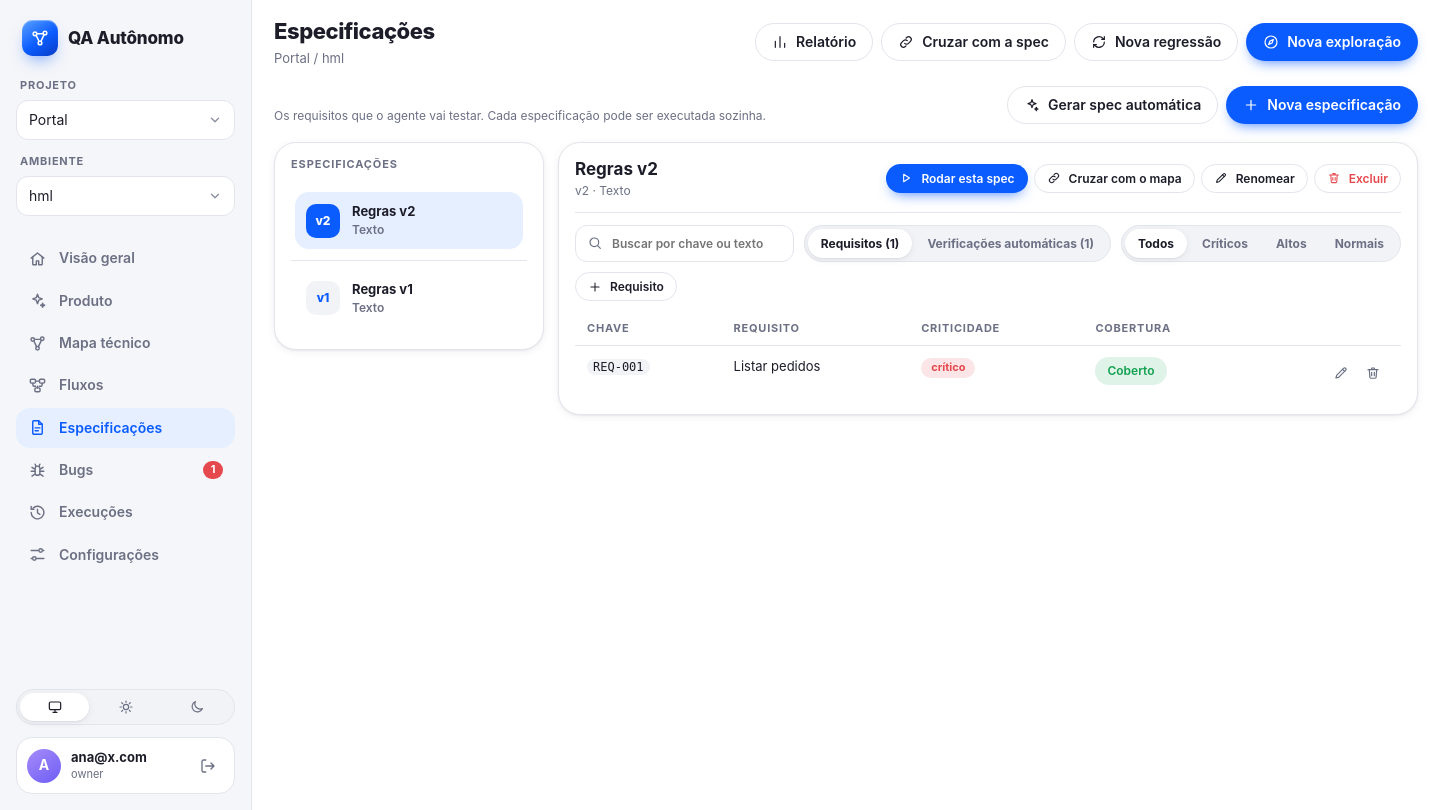
Scenario: especificações › separa requisitos de negócio e verificações automáticas
Expected: the text "Listar pedidos" is shown, left=722, top=346, right=909, bottom=400
Expected: the text "A tela /orders responde sem erro" is not shown
Click the 1st radio button labelled "Verificações automáticas (1)". click: point(1011, 243)
box: left=927, top=236, right=1094, bottom=250
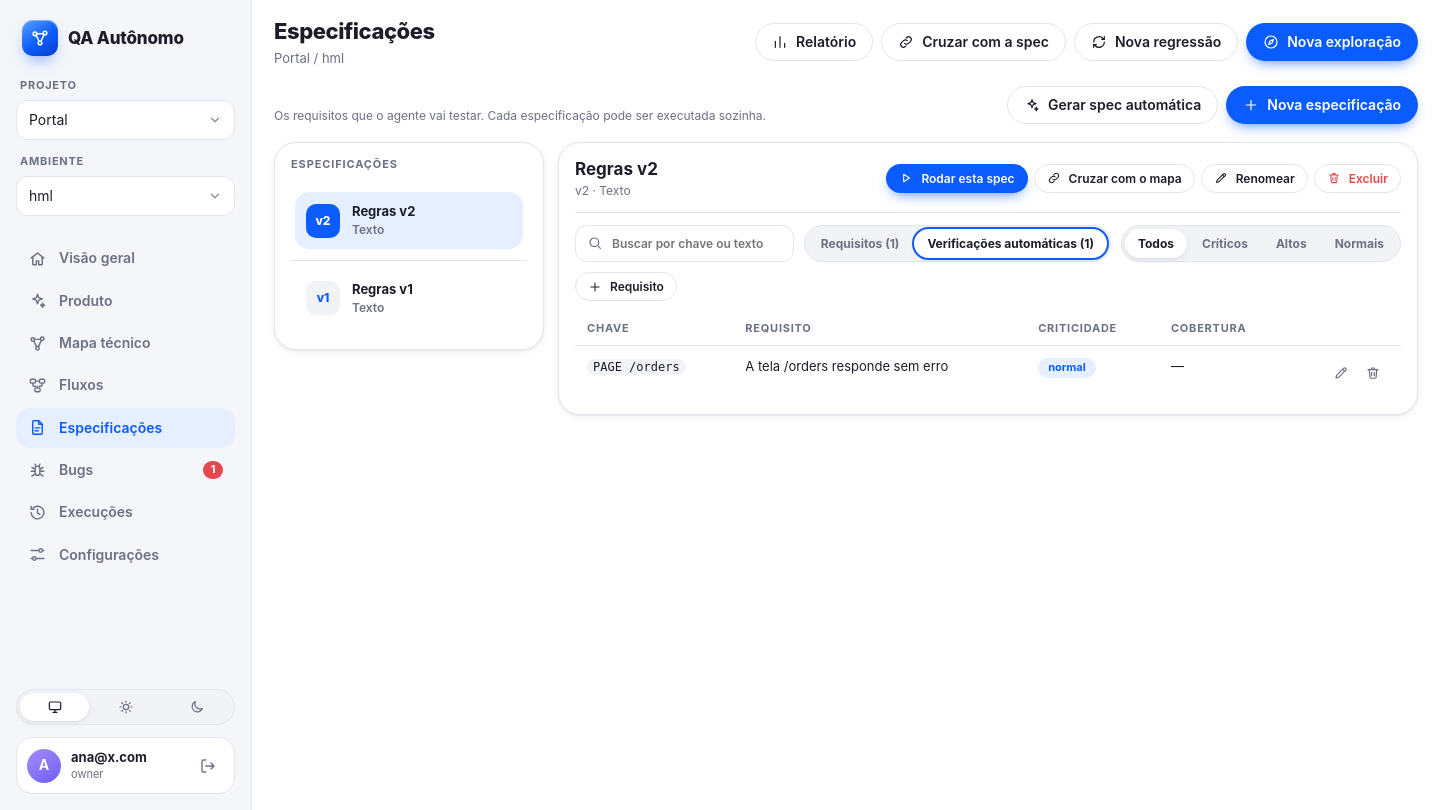
Expected: the text "A tela /orders responde sem erro" is shown, left=733, top=346, right=1026, bottom=400
Expected: the text "Listar pedidos" is gone
